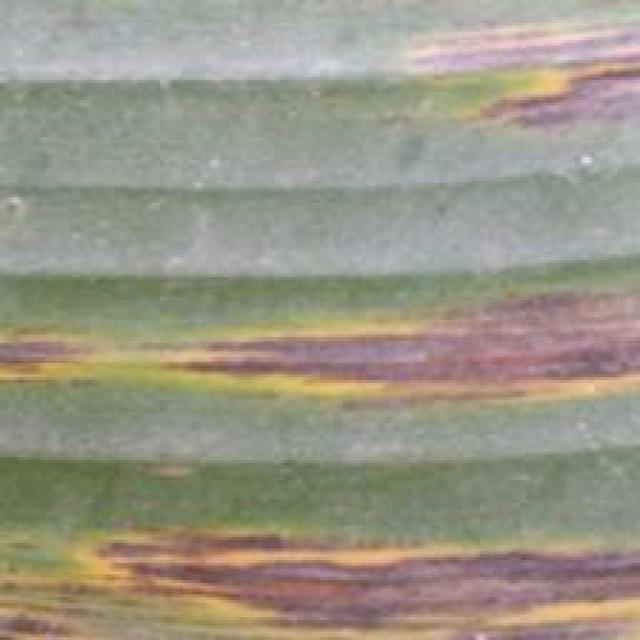Early_leaf_spot: (0, 252, 640, 440), (0, 500, 640, 640), (401, 4, 640, 164), (0, 0, 106, 59)
